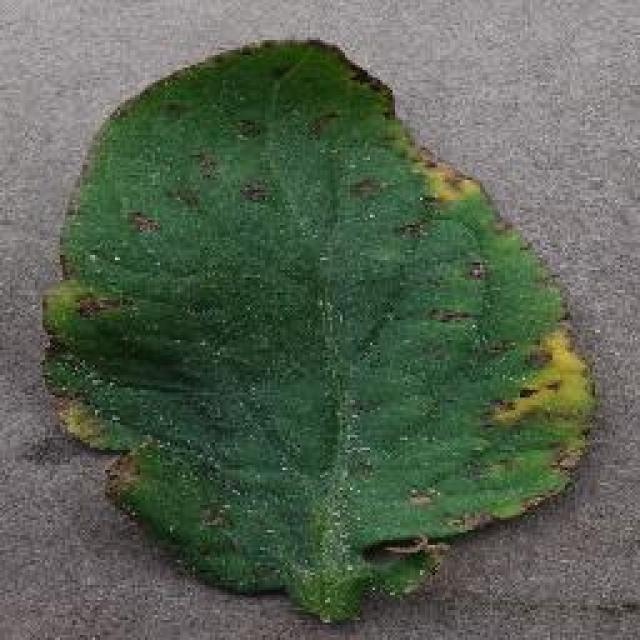bacterial spot: (36, 45, 600, 620)
